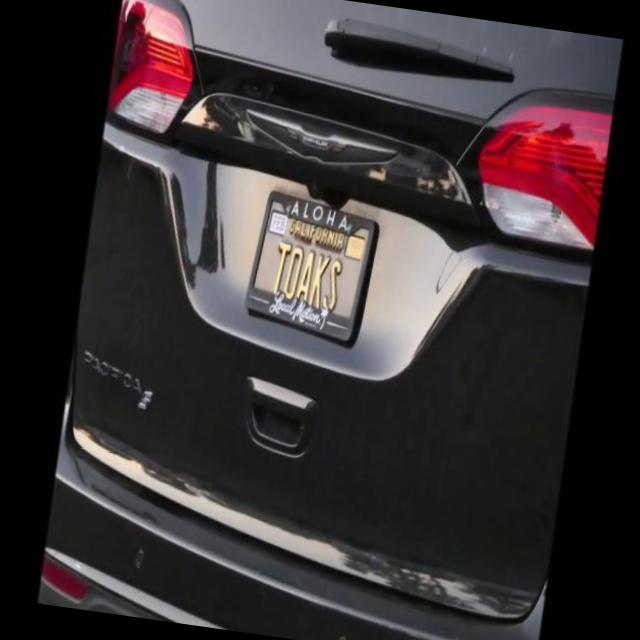LicensePlate: (230, 166, 396, 370)
